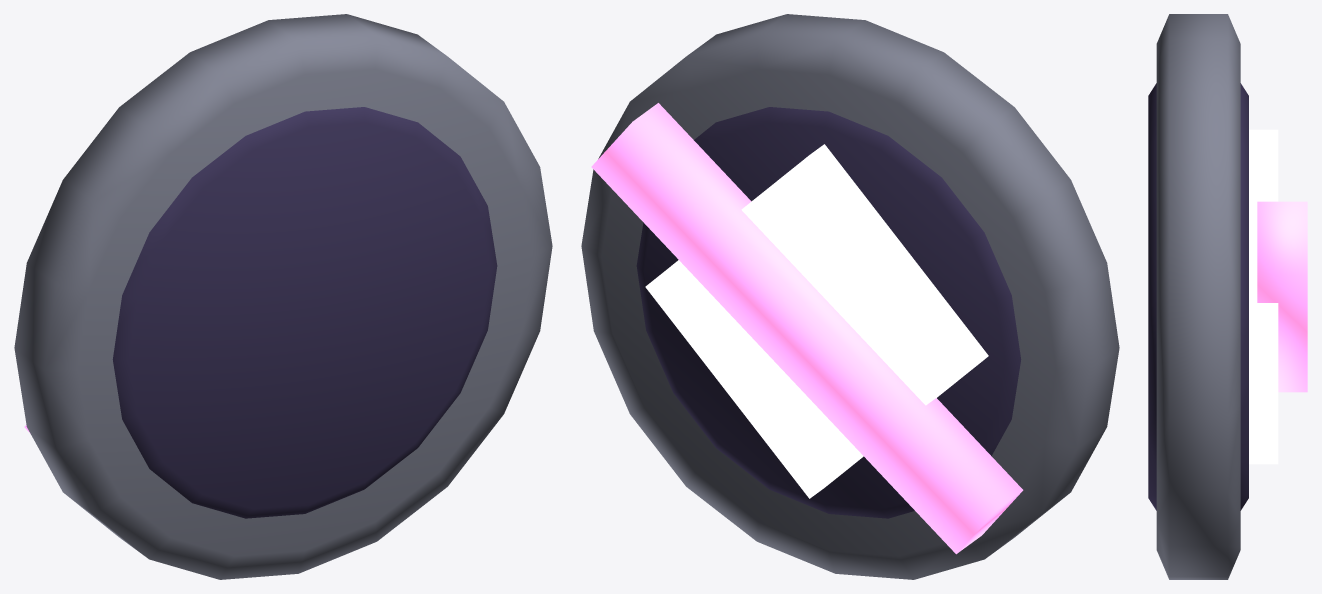
Rendered from STR_Badge_NoAds.glb.
The picture shows the model from 3 angles, left to right: view 1: azimuth 30°, elevation 25°; view 2: azimuth 150°, elevation 25°; view 3: azimuth 270°, elevation 25°; orthographic projection. The views are drawn at different scales.
Parts seen in each view (by area): view 1: field, disc; view 2: disc, slash, field, screen; view 3: disc, screen, slash, field.
Boxes of the visible parts, x1,y1,x2,y2 form: field: (112, 107, 497, 518); disc: (14, 14, 552, 579); disc: (581, 14, 1119, 579); slash: (591, 103, 1023, 554); field: (636, 107, 1021, 518); screen: (645, 144, 988, 498); disc: (1156, 14, 1240, 579); screen: (1249, 129, 1278, 464); slash: (1257, 201, 1307, 392); field: (1148, 83, 1248, 510).
Size of the model in its own units: 0.68 by 0.68 by 0.19.
